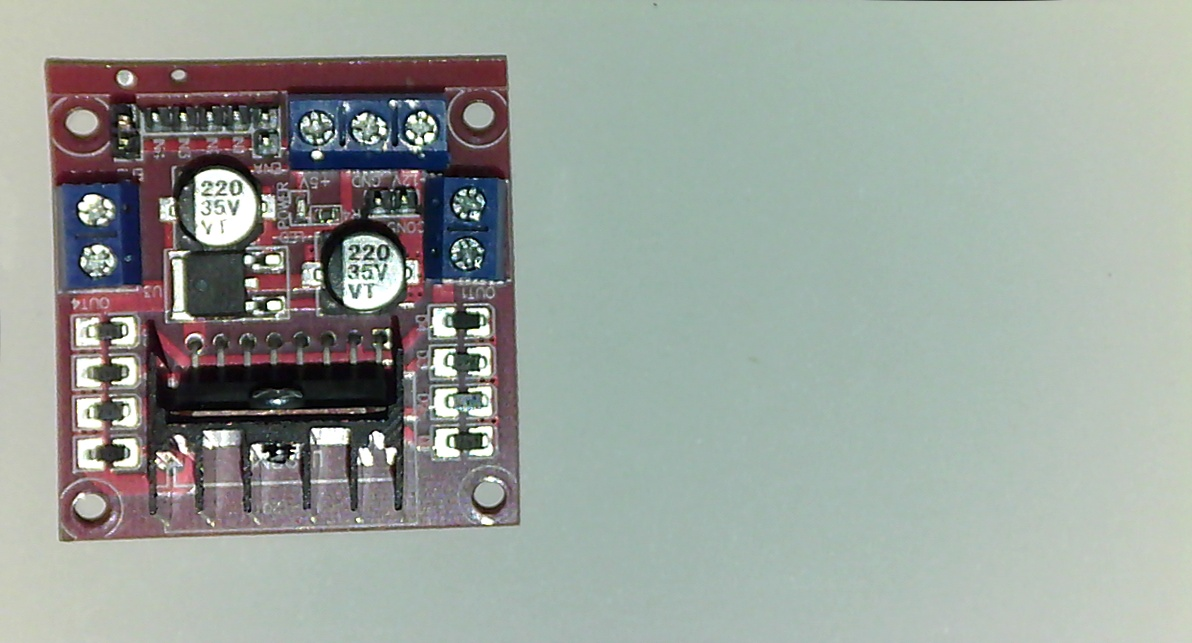l298n: (36, 52, 523, 544)
